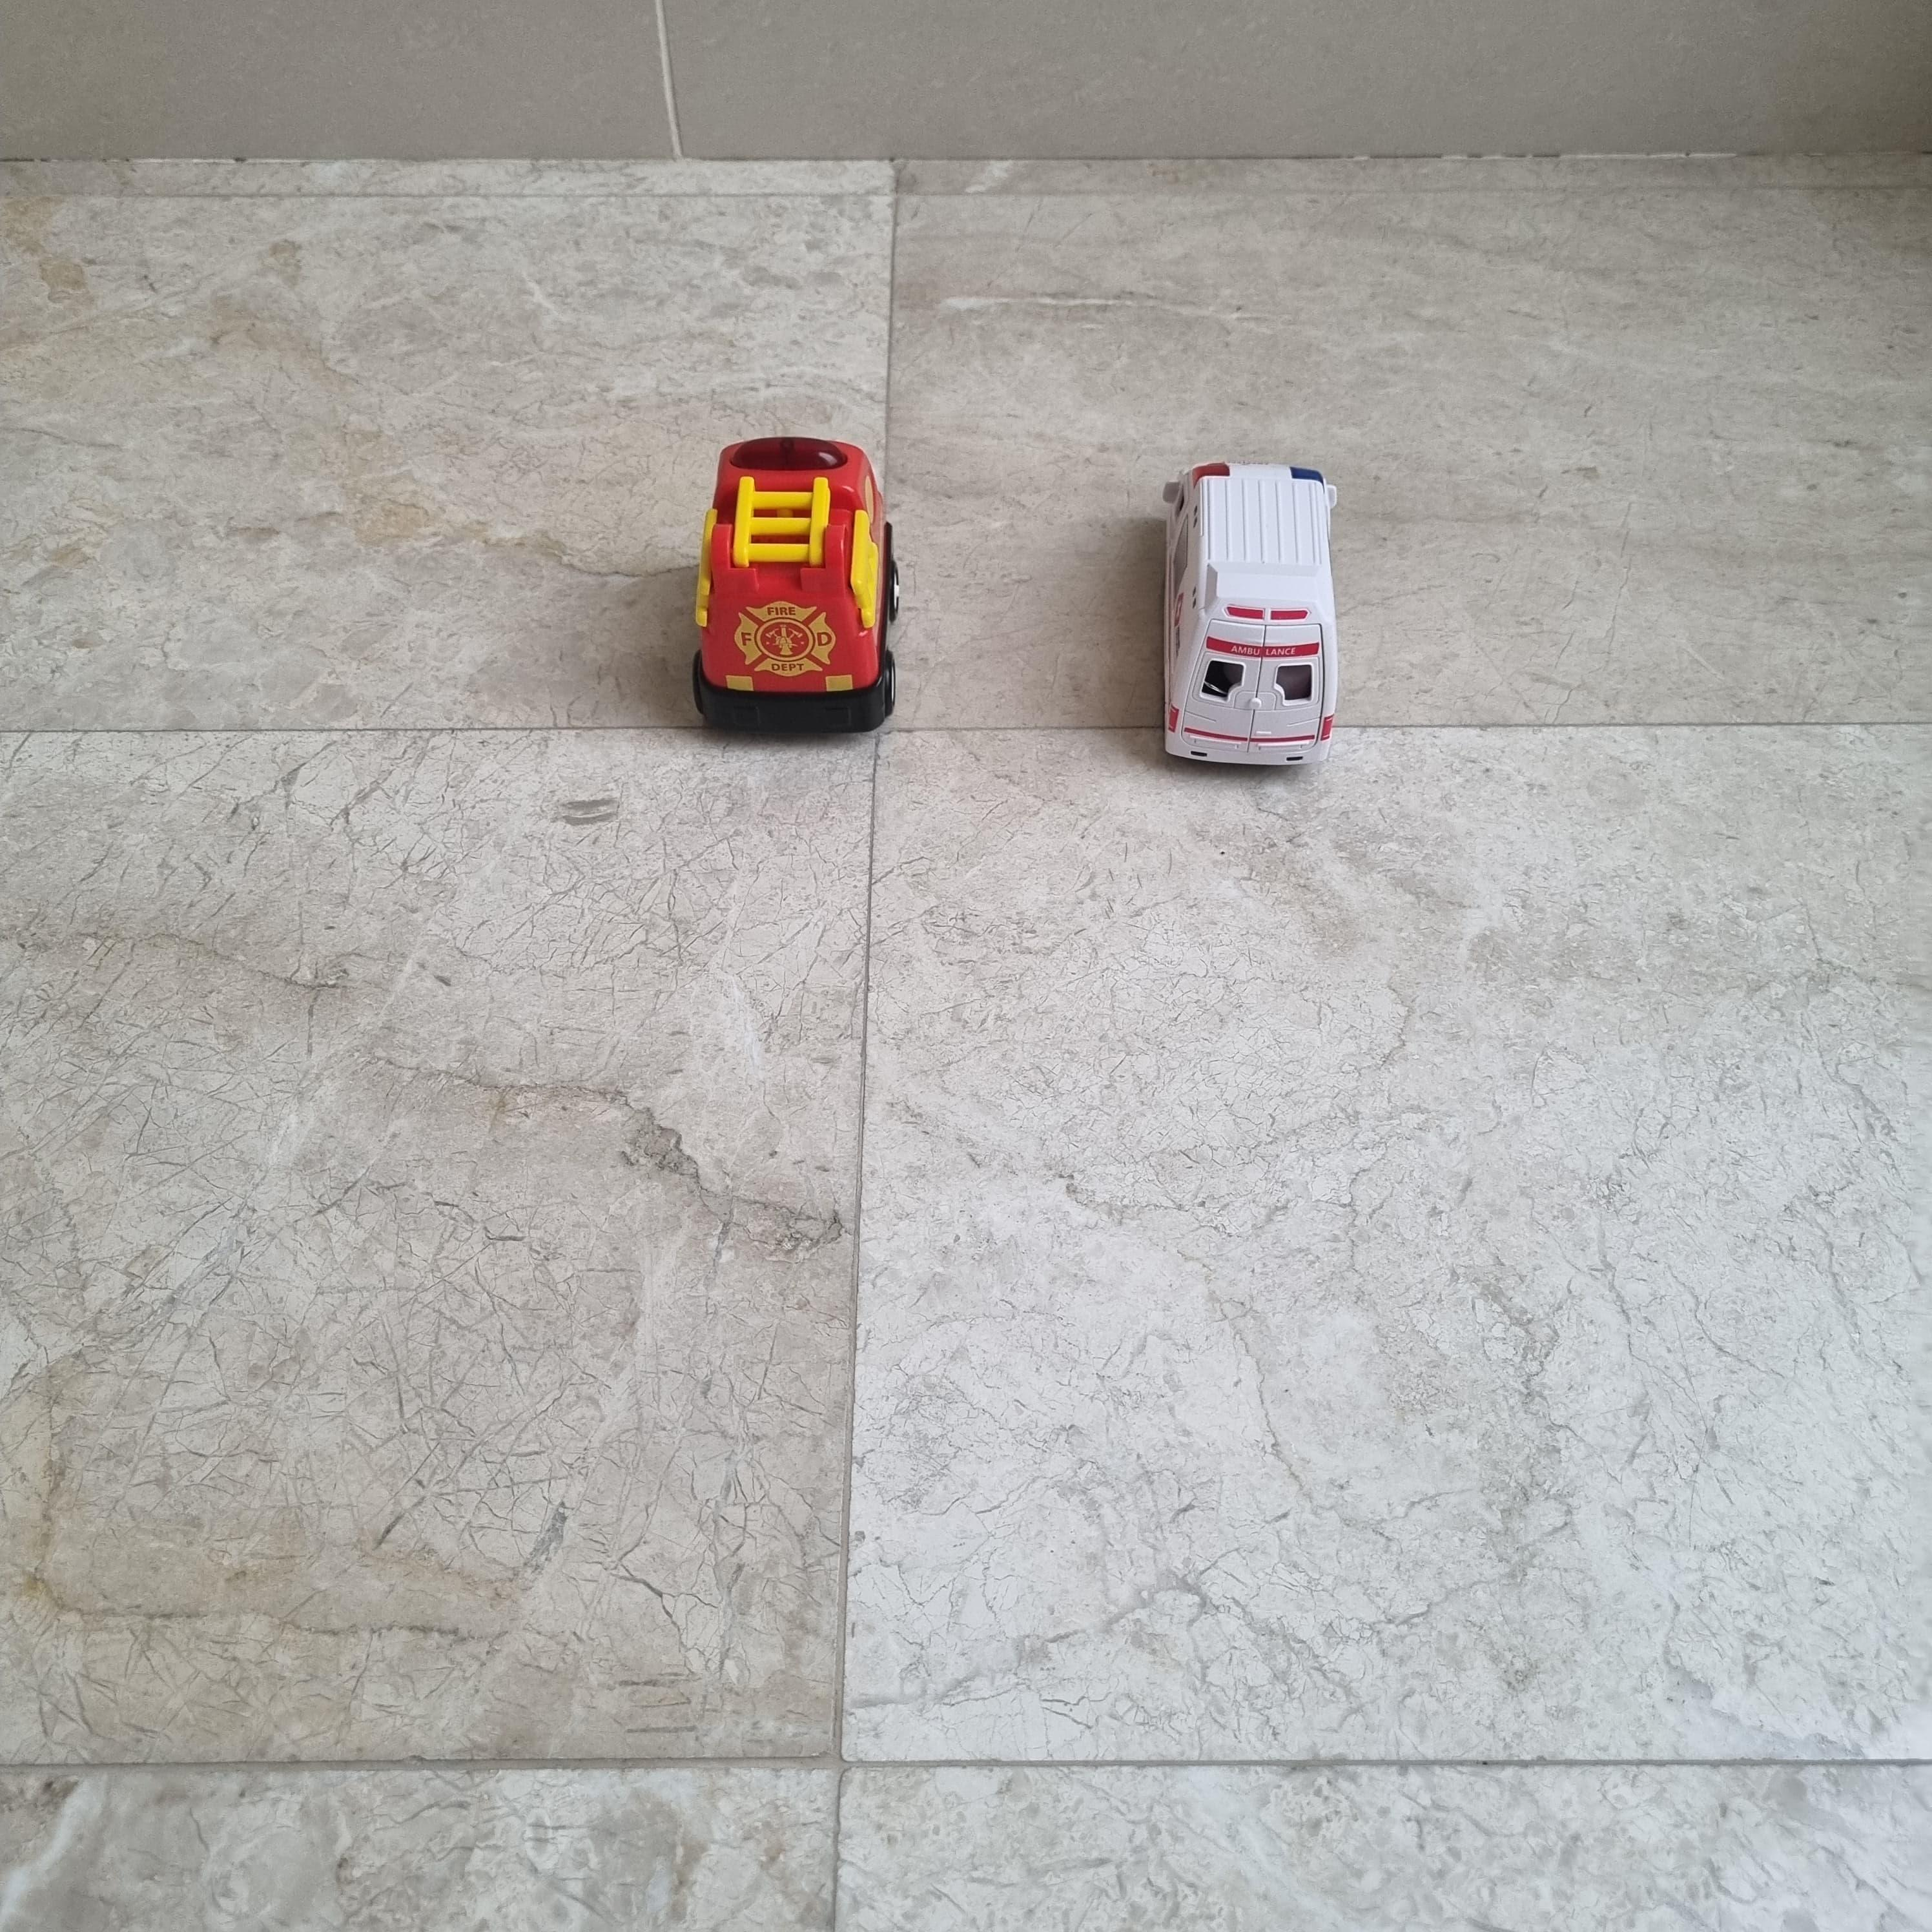ambulance_off: (1155, 462, 1338, 770)
firetruck_off: (688, 439, 899, 732)
